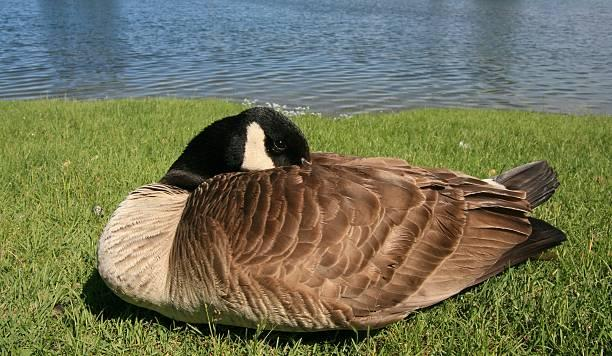Canadian-Goose: (95, 105, 571, 334)
